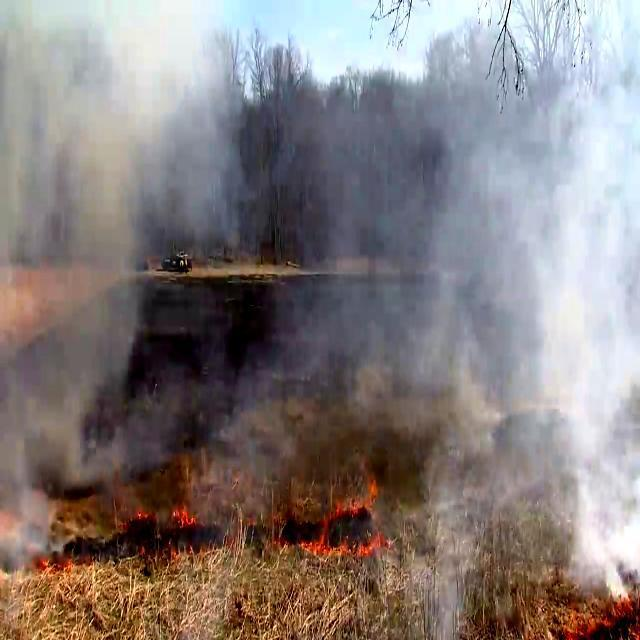Fire: (301, 472, 386, 558), (165, 453, 198, 538)
Smoke: (296, 0, 640, 640), (0, 0, 222, 567)
